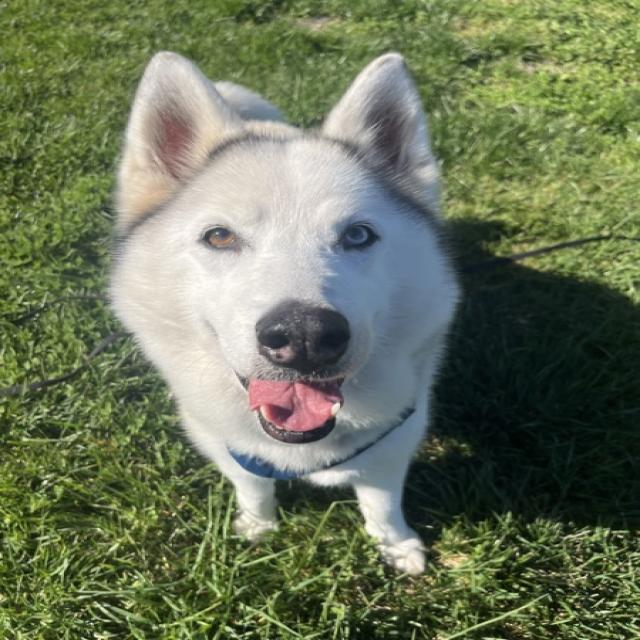siberian_husky_dog: (89, 40, 480, 473)
